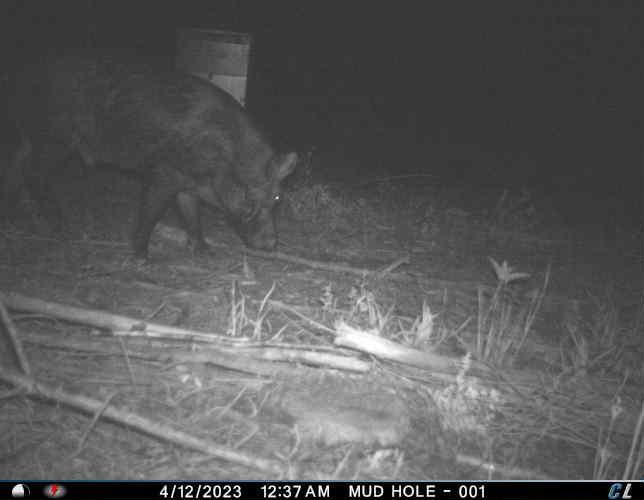Hog: (1, 42, 307, 267)
